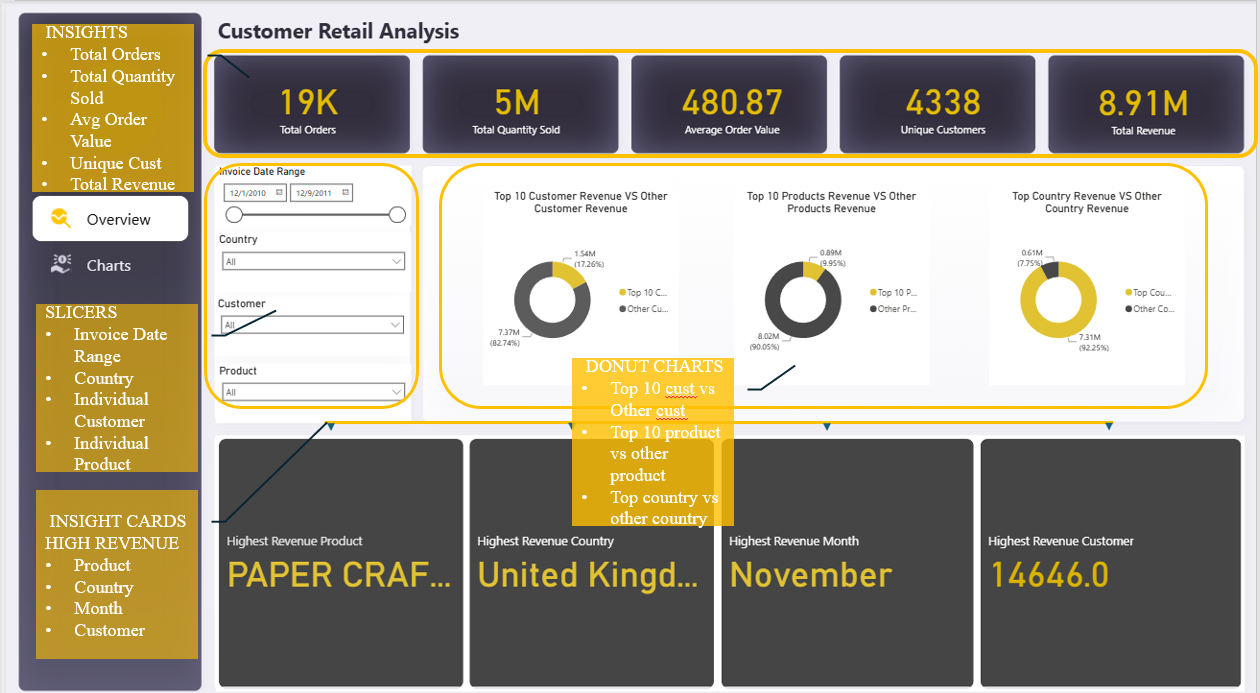

This screenshot's page, from the dashboard's own definition file:
{"tool":"powerbi","page":{"name":"Overview","canvas":[1920,1080],"ordinal":0},"visuals":[{"type":"cardVisual","fields":{"Data":["_Measures.Highest Revenue Country"]},"box":[707.5,667.5,385,392.5],"z":0},{"type":"cardVisual","fields":{"Data":["_Measures.Highest Revenue Month"]},"box":[1092.5,667.5,397.5,392.5],"z":1000},{"type":"cardVisual","fields":{"Data":["_Measures.Highest Revenue Customer"]},"box":[1490,667.5,410,392.5],"z":2000},{"type":"cardVisual","fields":{"Data":["_Measures.Highest Revenue Product"]},"box":[322.5,667.5,385,392.5],"z":3000},{"type":"group","id":"g1","title":"Buttons Menu","box":[40,300,240,420.1],"z":4000},{"type":"textbox","title":"Title","box":[320.9,19.7,618.1,65.2],"z":5000},{"type":"actionButton","title":"Revenue","box":[40,370.2,240,70.1],"z":5500,"group":"g1"},{"type":"actionButton","title":"Overview_active","box":[40,300,240,70.1],"z":6500,"group":"g1"},{"type":"card","fields":{"Values":["_Measures.Total Orders"]},"box":[310,85.6,308.9,150],"z":7000},{"type":"card","fields":{"Values":["_Measures.Total Quantity Sold"]},"box":[630,85,308.3,150],"z":8000},{"type":"card","fields":{"Values":["_Measures.Average Order Value"]},"box":[960,85,308.3,150],"z":9000},{"type":"card","fields":{"Values":["_Measures.Unique Customers"]},"box":[1284,84,308,150],"z":10000},{"type":"card","fields":{"Values":["_Measures.Total Revenue"]},"box":[1592,86,308,150],"z":11000},{"type":"slicer","title":"Invoice Date Range","fields":{"Values":["public_retail.invoicedate"]},"box":[321.4,254.3,300,91.4],"z":12000},{"type":"slicer","title":"Country","fields":{"Values":["public_retail.country"]},"box":[321.4,357.1,300,91.4],"z":13000},{"type":"slicer","title":"Customer","fields":{"Values":["public_retail.customerid"]},"box":[320,454.3,300,91.4],"z":14000},{"type":"slicer","title":"Product ","fields":{"Values":["public_retail.description"]},"box":[321.4,558.6,300,91.4],"z":15000},{"type":"donutChart","title":"Top 10 Customer Revenue VS Other Customer Revenue","fields":{"Y":["_Measures.Top 10 Customer Revenue","_Measures.Other Customer Revenue"]},"box":[733.3,290,300,300],"z":16000},{"type":"donutChart","title":"Top Country Revenue VS Other Country Revenue","fields":{"Y":["_Measures.Top Country Revenue","_Measures.Other Country Revenue"]},"box":[1510,290,300,300],"z":17000},{"type":"donutChart","title":"Top 10 Products Revenue VS Other Products Revenue","fields":{"Y":["_Measures.Top 10 Products Revenue","_Measures.Other Products Revenue"]},"box":[1117.5,290,300,300],"z":18000}]}

Visuals, with their boxes in screenshot pixels (x1, y1, x2, y2), scaled from the page's 1920x1080 canvas onto the 1260x693 screenshot:
cardVisual - _Measures.Highest Revenue Country: rect(464, 428, 717, 680)
cardVisual - _Measures.Highest Revenue Month: rect(717, 428, 978, 680)
cardVisual - _Measures.Highest Revenue Customer: rect(978, 428, 1247, 680)
cardVisual - _Measures.Highest Revenue Product: rect(212, 428, 464, 680)
"Buttons Menu" group: rect(26, 193, 184, 462)
"Title" textbox: rect(211, 13, 616, 54)
"Revenue" actionButton: rect(26, 238, 184, 283)
"Overview_active" actionButton: rect(26, 193, 184, 237)
card - _Measures.Total Orders: rect(203, 55, 406, 151)
card - _Measures.Total Quantity Sold: rect(413, 55, 616, 151)
card - _Measures.Average Order Value: rect(630, 55, 832, 151)
card - _Measures.Unique Customers: rect(843, 54, 1045, 150)
card - _Measures.Total Revenue: rect(1045, 55, 1247, 151)
"Invoice Date Range" slicer: rect(211, 163, 408, 222)
"Country" slicer: rect(211, 229, 408, 288)
"Customer" slicer: rect(210, 292, 407, 350)
"Product " slicer: rect(211, 358, 408, 417)
"Top 10 Customer Revenue VS Other Customer Revenue" donutChart: rect(481, 186, 678, 379)
"Top Country Revenue VS Other Country Revenue" donutChart: rect(991, 186, 1188, 379)
"Top 10 Products Revenue VS Other Products Revenue" donutChart: rect(733, 186, 930, 379)
